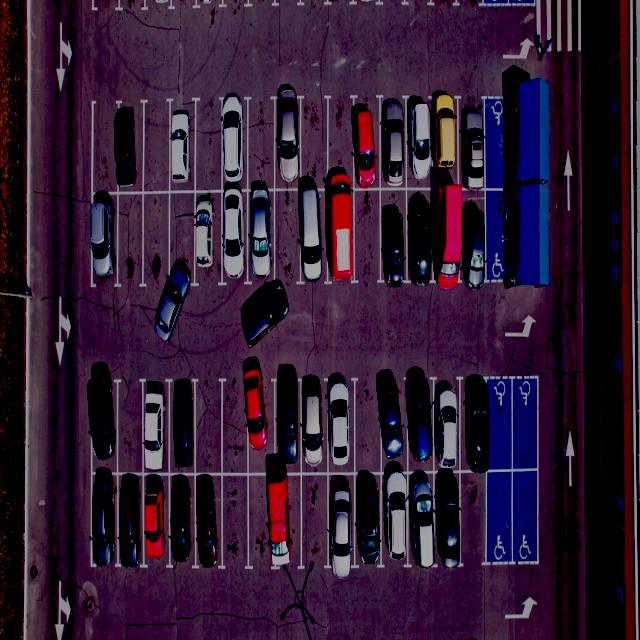empty: (298, 472, 332, 571), (116, 192, 146, 289), (141, 101, 172, 194), (169, 191, 199, 287), (142, 192, 172, 288), (196, 99, 226, 194), (352, 377, 382, 472), (272, 189, 303, 280), (194, 378, 224, 472), (351, 190, 382, 280), (220, 378, 249, 474), (220, 473, 249, 569), (328, 96, 358, 188), (247, 100, 277, 190), (116, 381, 145, 474), (92, 99, 120, 193), (513, 470, 542, 560), (485, 470, 513, 562), (510, 376, 538, 468), (248, 471, 274, 569), (462, 470, 489, 563), (299, 102, 327, 190), (488, 379, 512, 472)
occupied: (268, 470, 302, 570), (110, 98, 145, 193), (246, 373, 279, 472), (325, 375, 358, 471), (193, 476, 224, 571), (350, 471, 381, 566), (87, 375, 117, 473), (170, 380, 201, 474), (431, 188, 462, 282), (272, 375, 302, 472), (169, 100, 200, 193), (431, 377, 462, 470), (247, 188, 278, 280), (378, 472, 409, 564), (377, 377, 407, 472), (297, 377, 327, 472), (141, 382, 171, 476), (192, 190, 222, 284), (272, 98, 303, 188), (406, 94, 436, 187), (218, 190, 248, 283), (88, 192, 117, 288), (326, 187, 356, 279), (140, 475, 170, 567), (296, 188, 326, 280), (327, 474, 356, 569), (405, 377, 434, 471), (378, 187, 407, 280), (170, 471, 198, 567), (434, 96, 463, 187), (351, 98, 380, 188), (220, 100, 248, 192), (408, 188, 436, 280), (378, 99, 406, 190), (409, 469, 436, 563), (434, 470, 461, 563), (117, 472, 144, 564), (465, 379, 491, 472), (89, 474, 115, 560), (464, 100, 488, 190), (465, 190, 487, 284)
